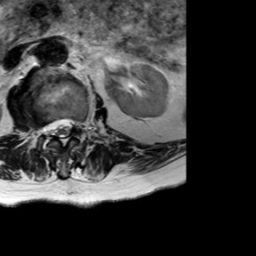CCS_normal: (56, 108, 67, 149)
LFS_normal: (75, 109, 84, 137)
LLS_normal: (67, 107, 75, 141)
RFS_normal: (35, 114, 45, 144)
RLS_normal: (46, 108, 56, 142)
